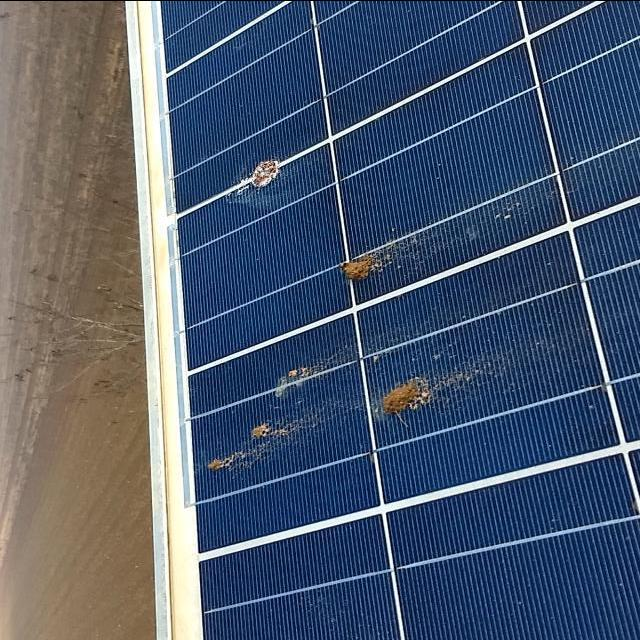soiled: (166, 87, 621, 504)
